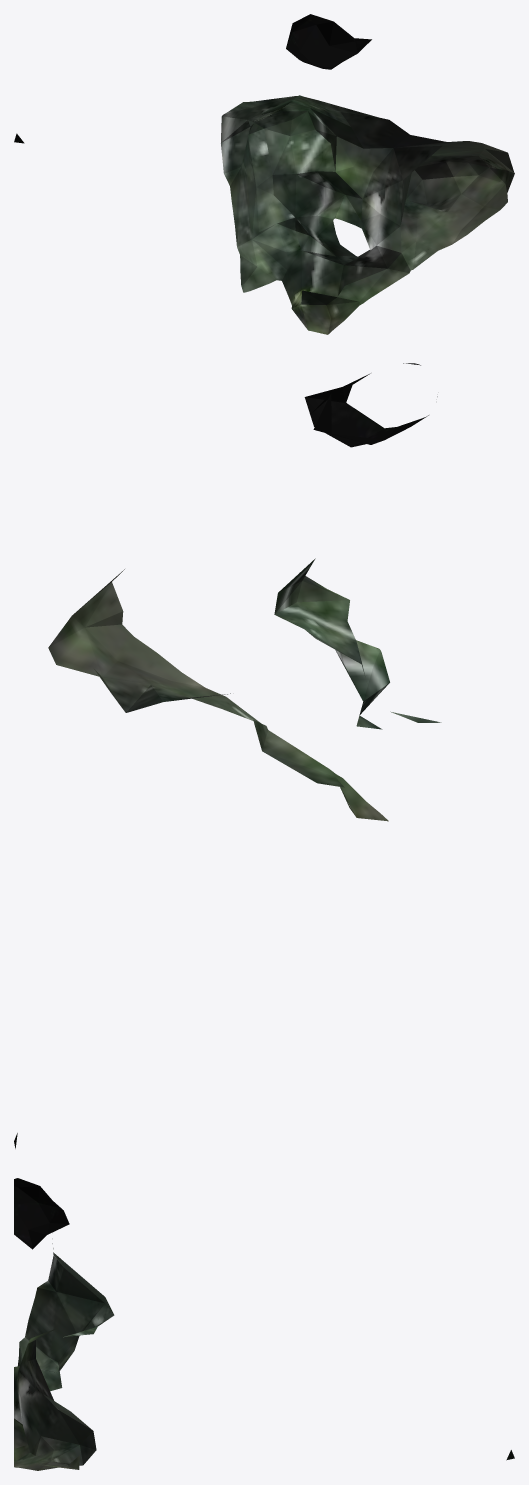
3 renders of one model, top to bottom at view 1: azimuth 30°, elevation 25°; view 2: azimuth 150°, elevation 25°; view 3: azimuth 270°, elevation 25°, orthographic. The views are drawn at different scales.
Bounding box in the file's own units: 10.06 × 11.02 × 17.54.
1 material, 1 textured.
